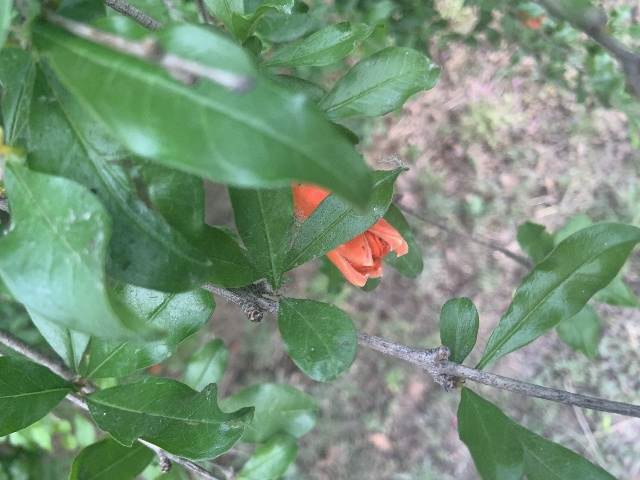flower: (291, 183, 408, 286)
